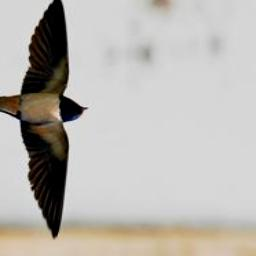Swallow: (0, 0, 89, 243)
